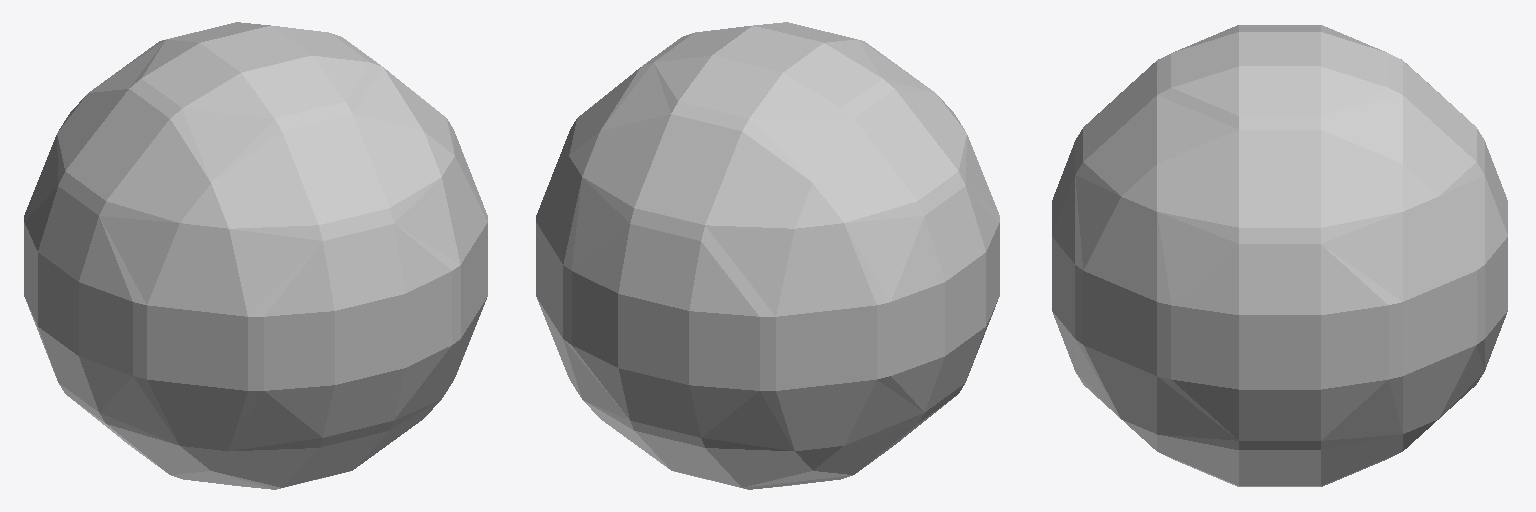
File: snow_ball.obj
The picture shows the model from 3 angles: view 1: azimuth 30°, elevation 25°; view 2: azimuth 150°, elevation 25°; view 3: azimuth 270°, elevation 25°; orthographic projection.
Parts seen in each view (by area): view 1: Mball.001_Mesh; view 2: Mball.001_Mesh; view 3: Mball.001_Mesh.
Part boxes in pixels (bbox=[...]): Mball.001_Mesh: bbox=[24, 22, 487, 489]; Mball.001_Mesh: bbox=[536, 22, 999, 489]; Mball.001_Mesh: bbox=[1052, 25, 1507, 486].
Size of the model in its own units: 0.446 by 0.446 by 0.446.